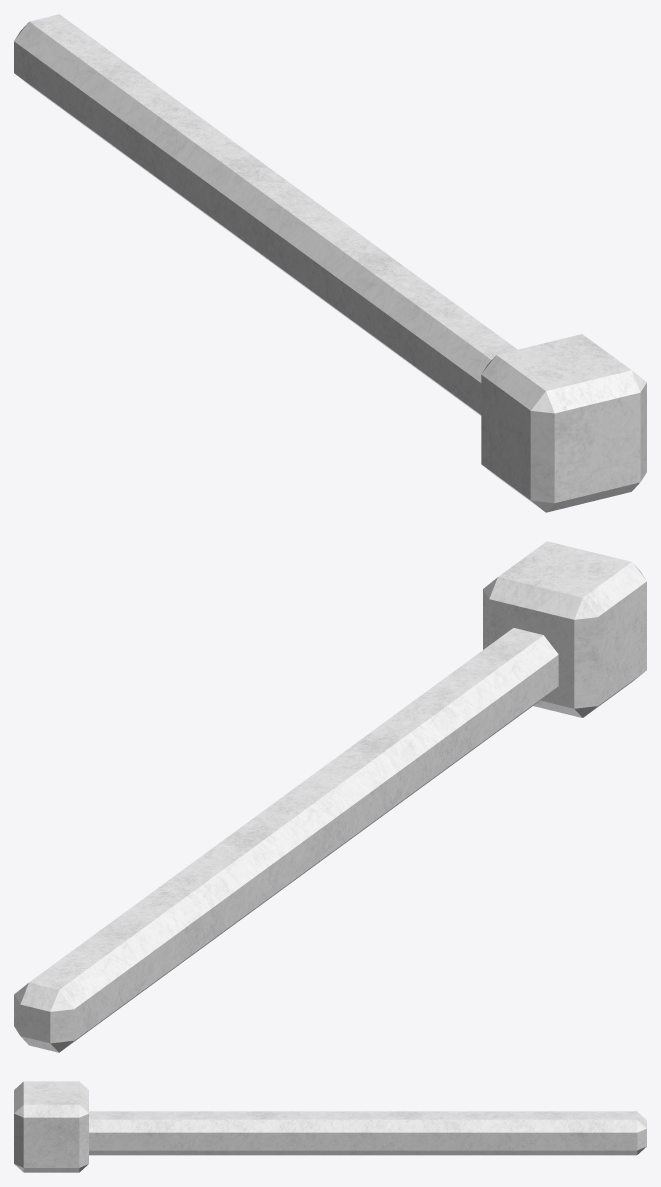
File: drum stick.fbx
3 views of the same model, one above another, from view 1: azimuth 30°, elevation 25°; view 2: azimuth 150°, elevation 25°; view 3: azimuth 270°, elevation 25° (orthographic). The views are drawn at different scales.
Parts seen in each view (by area): view 1: pCube4469; view 2: pCube4469; view 3: pCube4469.
Part boxes in pixels (x1,y1,x2,y2): pCube4469: [14, 14, 646, 512]; pCube4469: [14, 541, 646, 1052]; pCube4469: [14, 1081, 646, 1172].
Bounding box in the file's own units: 0.0775 × 0.0775 × 0.6527.
Materials: 1 (1 with a texture image).
